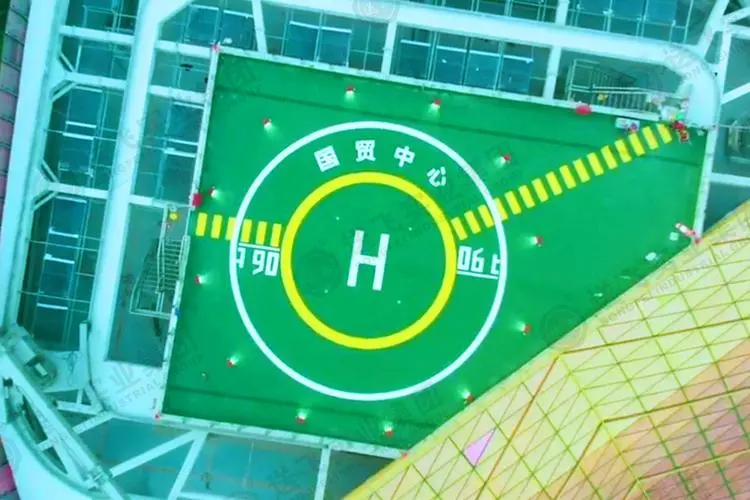Apron: (280, 171, 458, 351)
